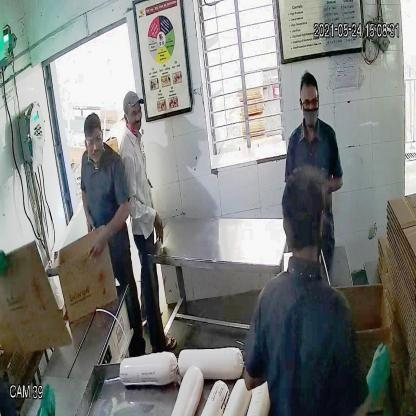goggles: (80, 132, 108, 150), (299, 96, 322, 112)
no_goggles: (121, 103, 143, 122)
